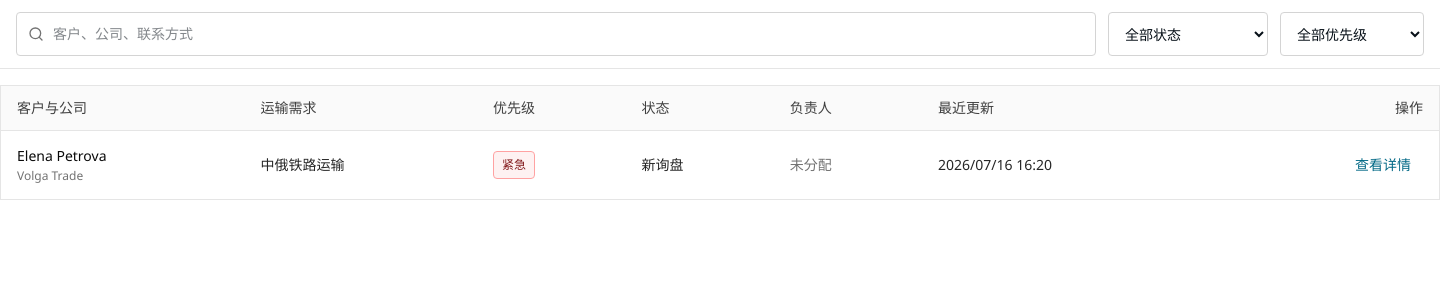
Test: InquiryList › filters the visible list with business text
The width and height of the screenshot is (1440, 300).
Type "不存在" into the search field named "搜索询盘". click: (556, 34)
box: [16,12,1096,56]
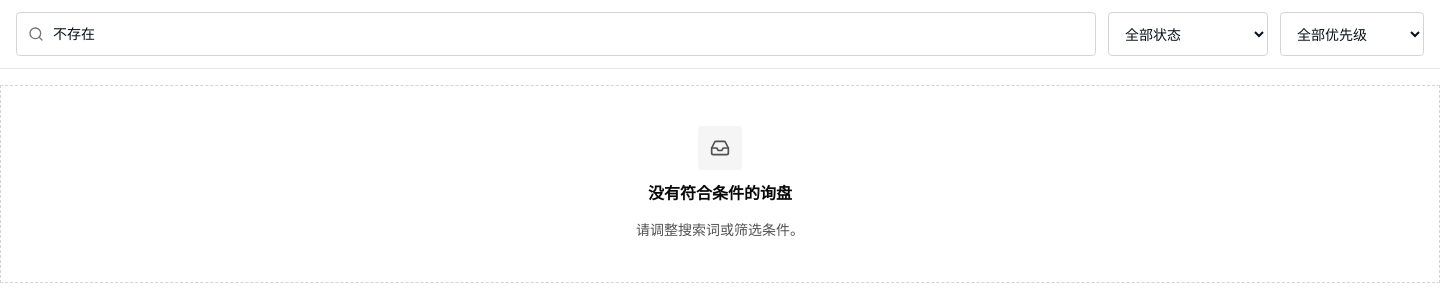
Now the heading "没有符合条件的询盘" is shown, box [648,182,792,206]
